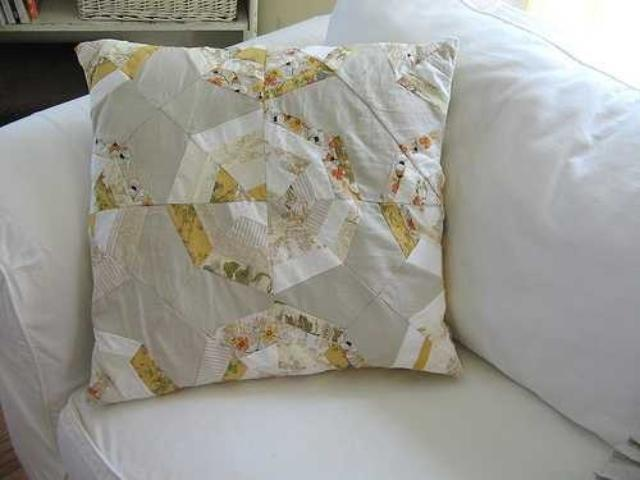pillow: (81, 38, 465, 406)
